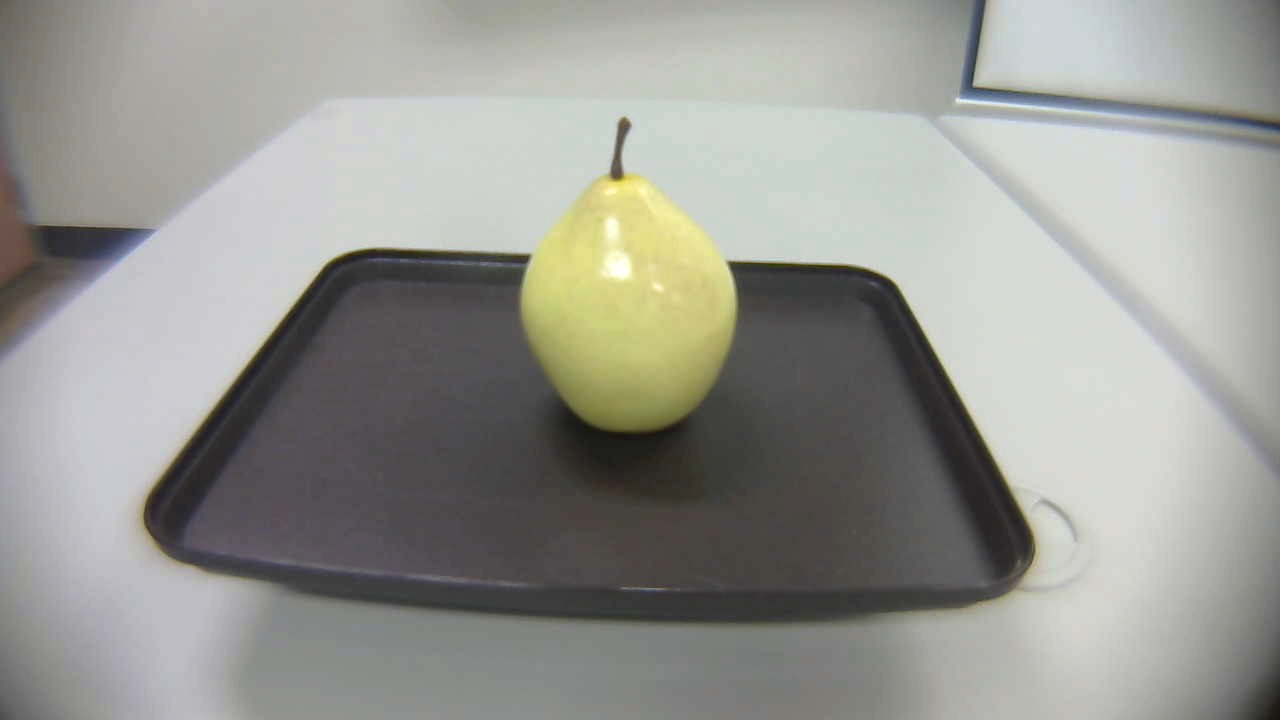western pear: (504, 114, 757, 447)
